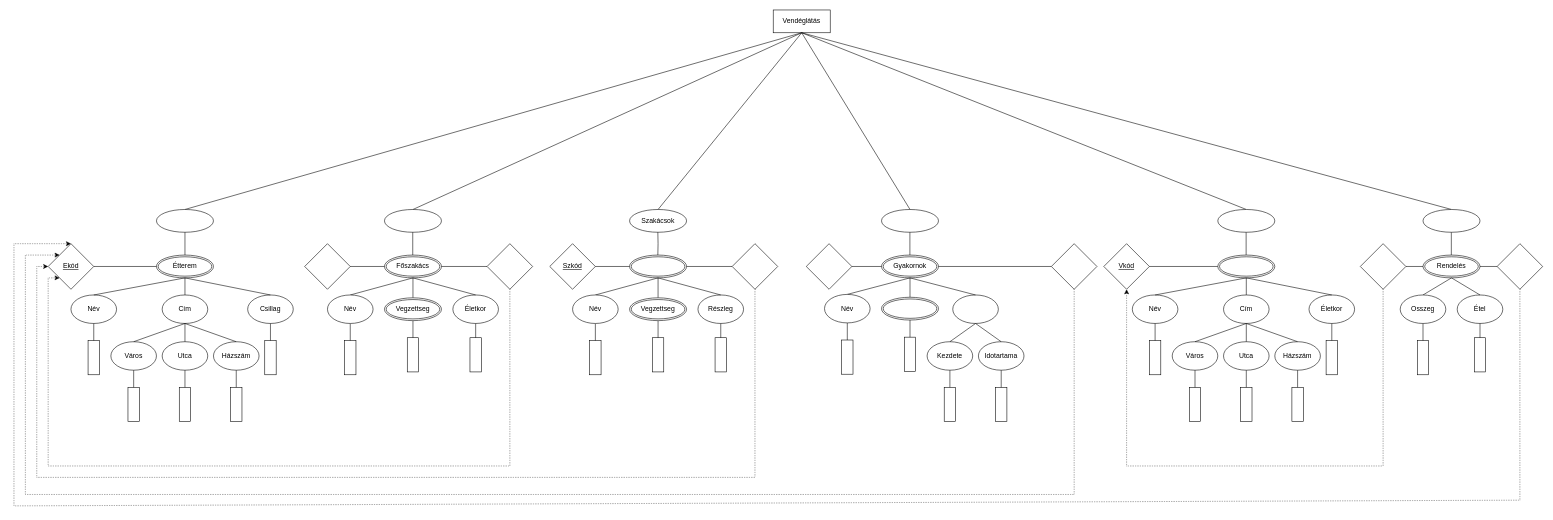
Image size: 1553x520. Some labels were removed from this diagram. Here are the shapes that lost their labels. From the top down, the box of each, then its label:
(156, 209, 213, 232): Éttermek
(384, 209, 441, 232): Főszakácsok
(881, 209, 939, 232): Gyakornokok
(1217, 209, 1275, 232): Vendégek
(1422, 209, 1480, 232): Rendelések
(304, 243, 350, 289): Fkód
(486, 243, 533, 289): E-F
(629, 255, 687, 278): Szakács
(732, 243, 778, 289): E-Sz
(806, 243, 852, 289): Gykód
(1051, 243, 1097, 289): E-Gy
(1217, 255, 1275, 278): Vendég
(881, 297, 939, 320): Műszak
(952, 294, 998, 323): Gyakorlat
